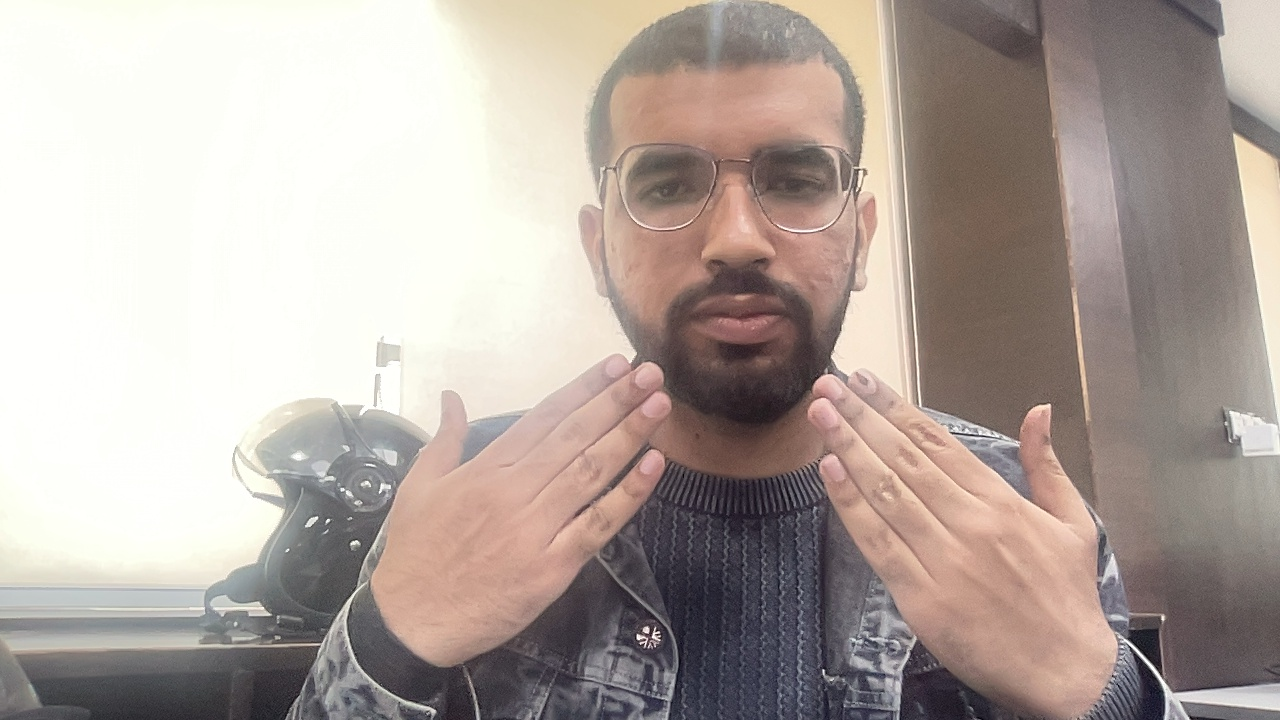Thank You: (292, 332, 1134, 678)
